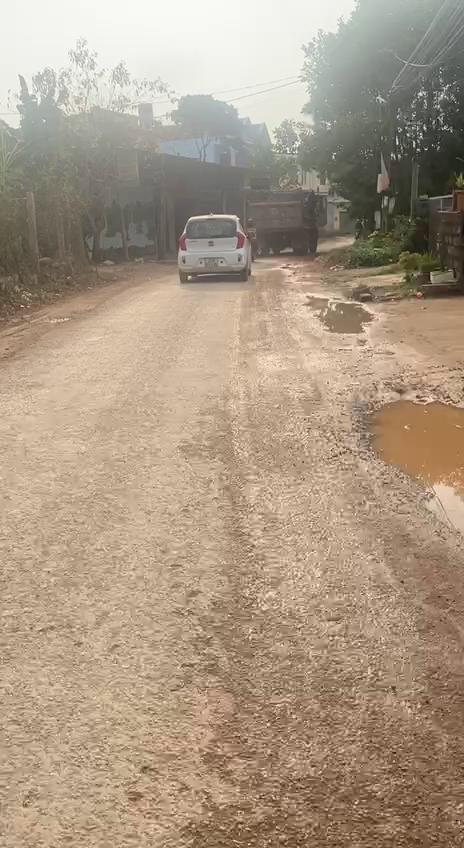pothole: (356, 393, 464, 528), (302, 294, 377, 344)
